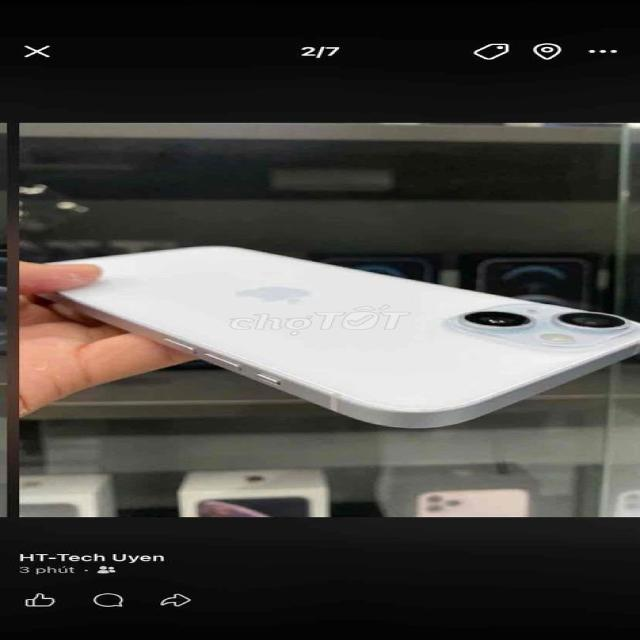gen_15: (27, 234, 640, 442)
